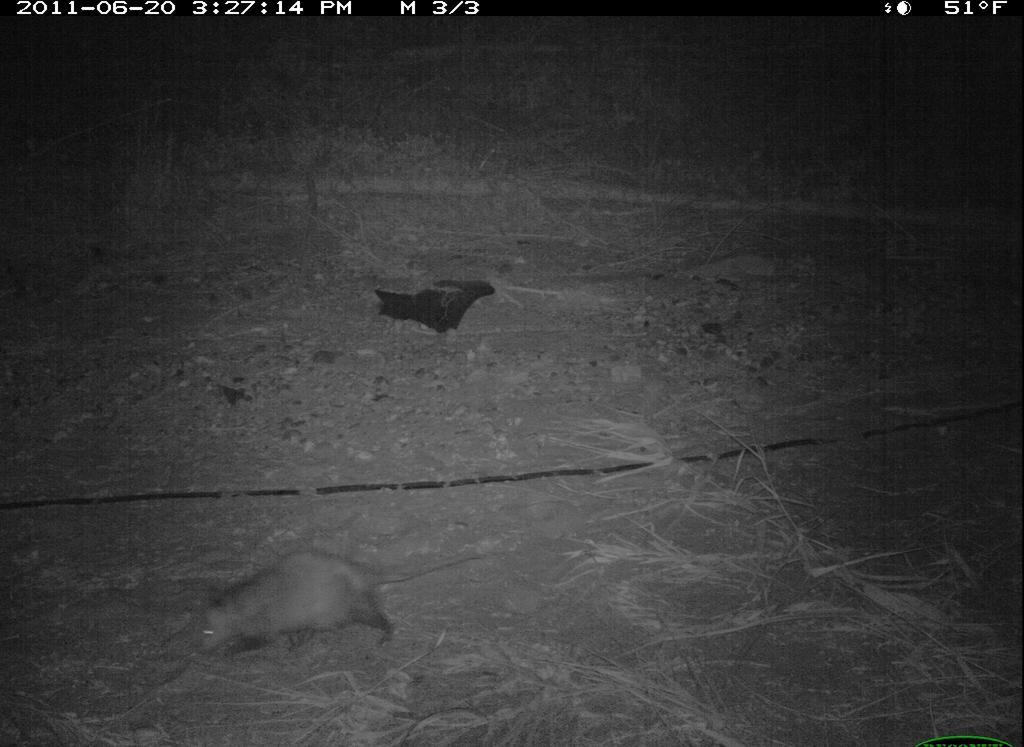opossum: (193, 542, 496, 670)
